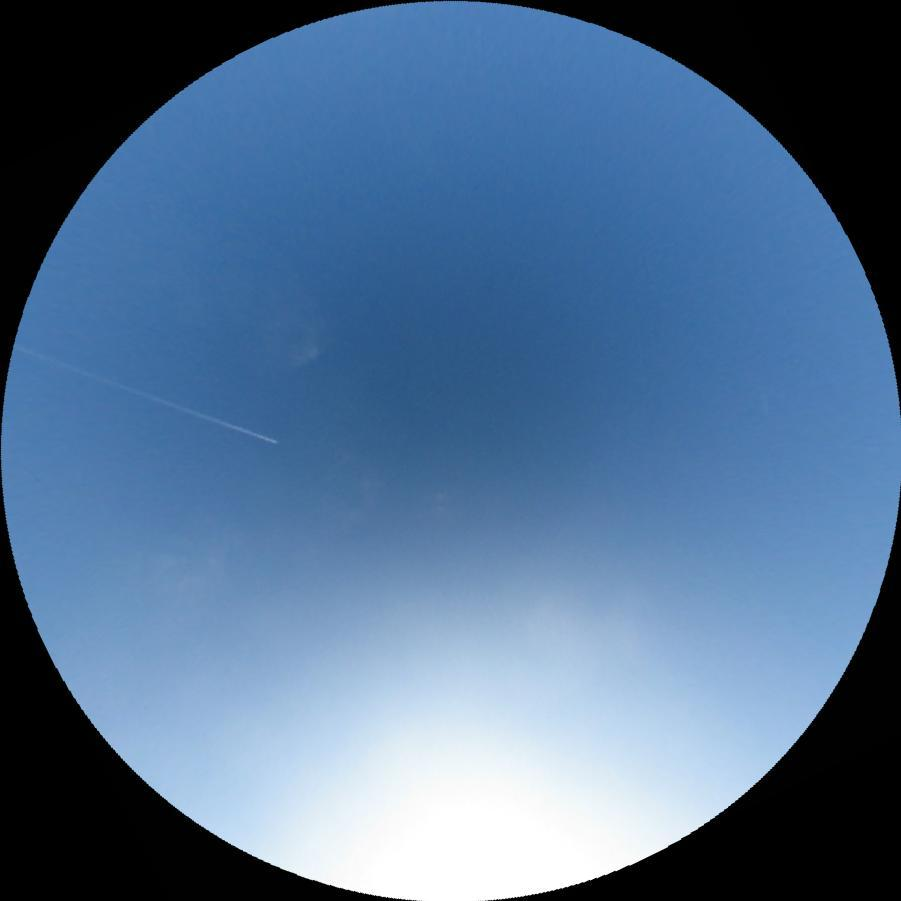contrail young: (12, 343, 279, 446)
